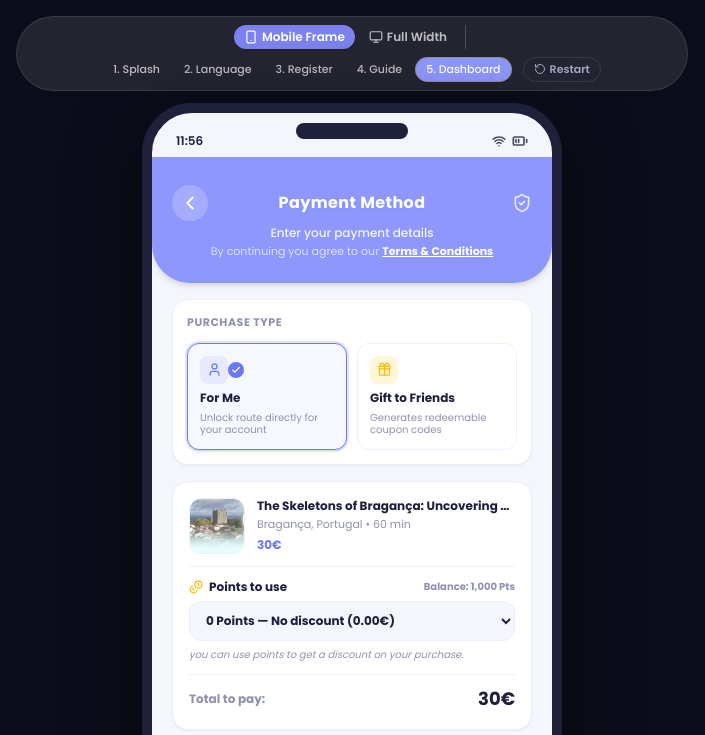
Test: Enigame Payment Gateway & Checkout Flow (07.4, 07.6, 07.7) › supports selecting Gift to Friends and selecting number of vouchers
The width and height of the screenshot is (705, 735).
Click the text "Gift to Friends": x=412, y=398 [370,390,455,406]
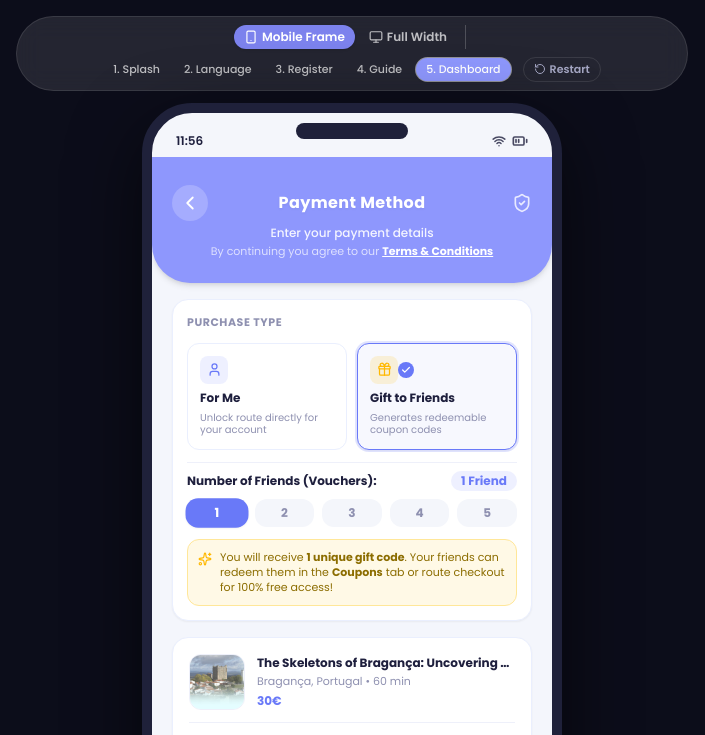
expect the text "Number of Friends (Vouchers):" is shown: met, box [187,473,377,489]
// Click 3 friends
Click the button "3": x=352, y=513 [322,499,382,527]
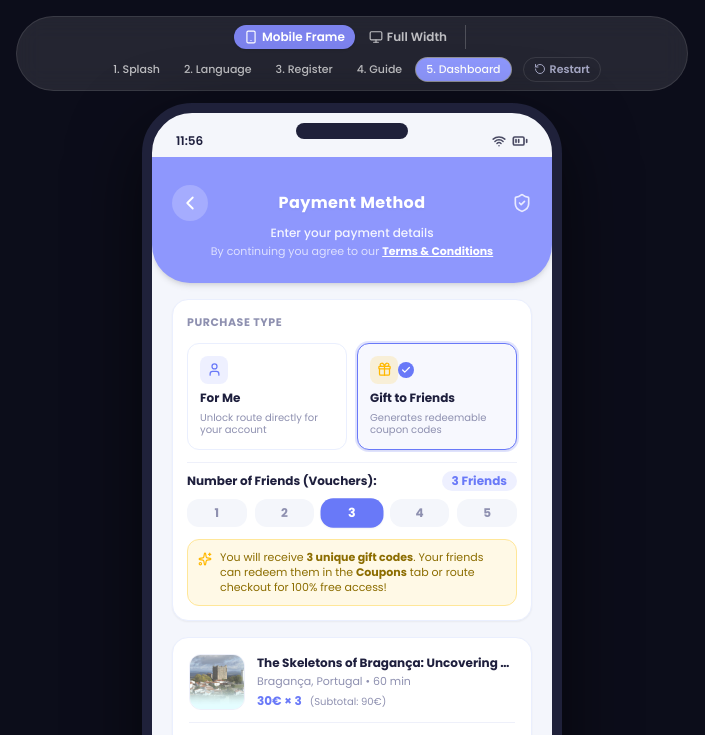
expect the text "3 Friends" is shown: met, box [442,471,517,491]
